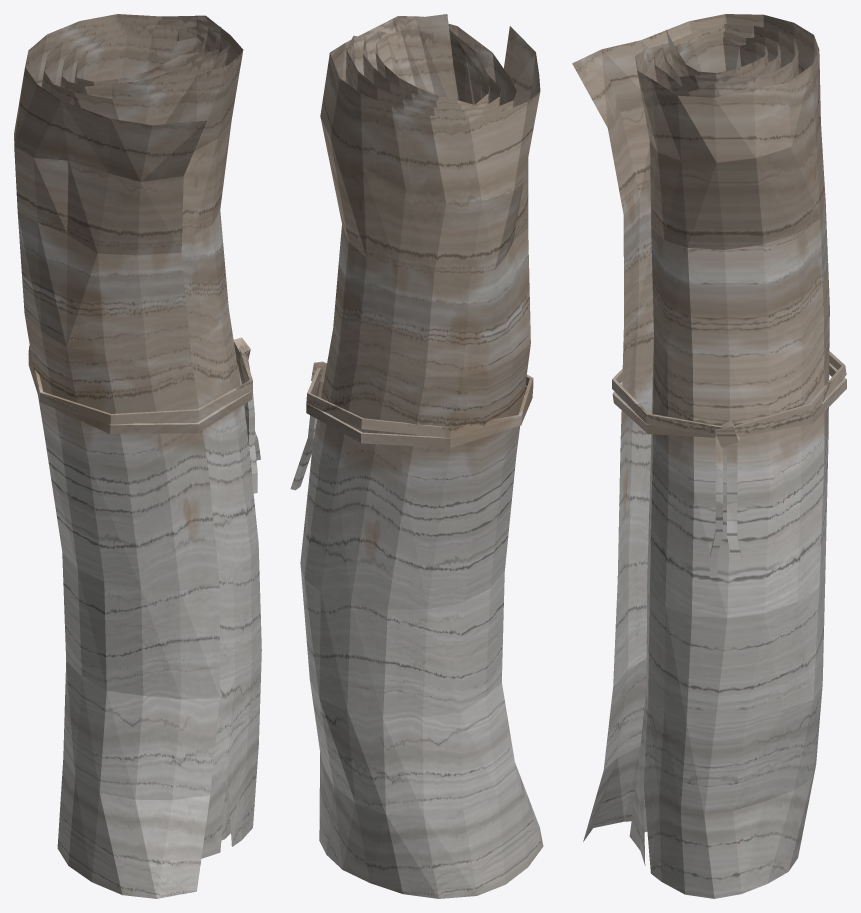
File: Scrolling.glb
3 views of the same model, side by side, from view 1: azimuth 30°, elevation 25°; view 2: azimuth 150°, elevation 25°; view 3: azimuth 270°, elevation 25° (orthographic).
Bounding box in the file's own units: 1.12 × 3.8 × 1.14.
1 material, 1 textured.
